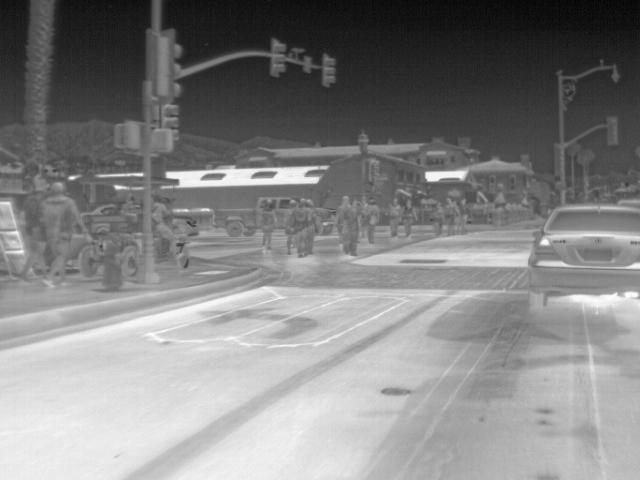car: (525, 204, 640, 310), (213, 207, 255, 238), (314, 206, 334, 236), (172, 215, 199, 237), (81, 202, 116, 216)
person: (36, 181, 90, 291), (147, 192, 182, 266), (282, 199, 300, 251), (258, 198, 276, 247), (387, 195, 406, 235), (364, 199, 381, 243), (337, 196, 354, 236), (402, 197, 418, 236), (446, 198, 464, 230), (430, 203, 446, 237)
